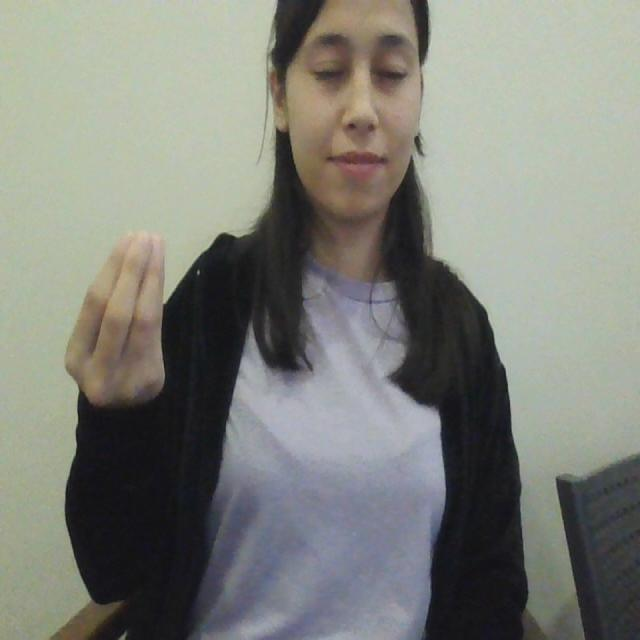iyi: (56, 226, 179, 414)
